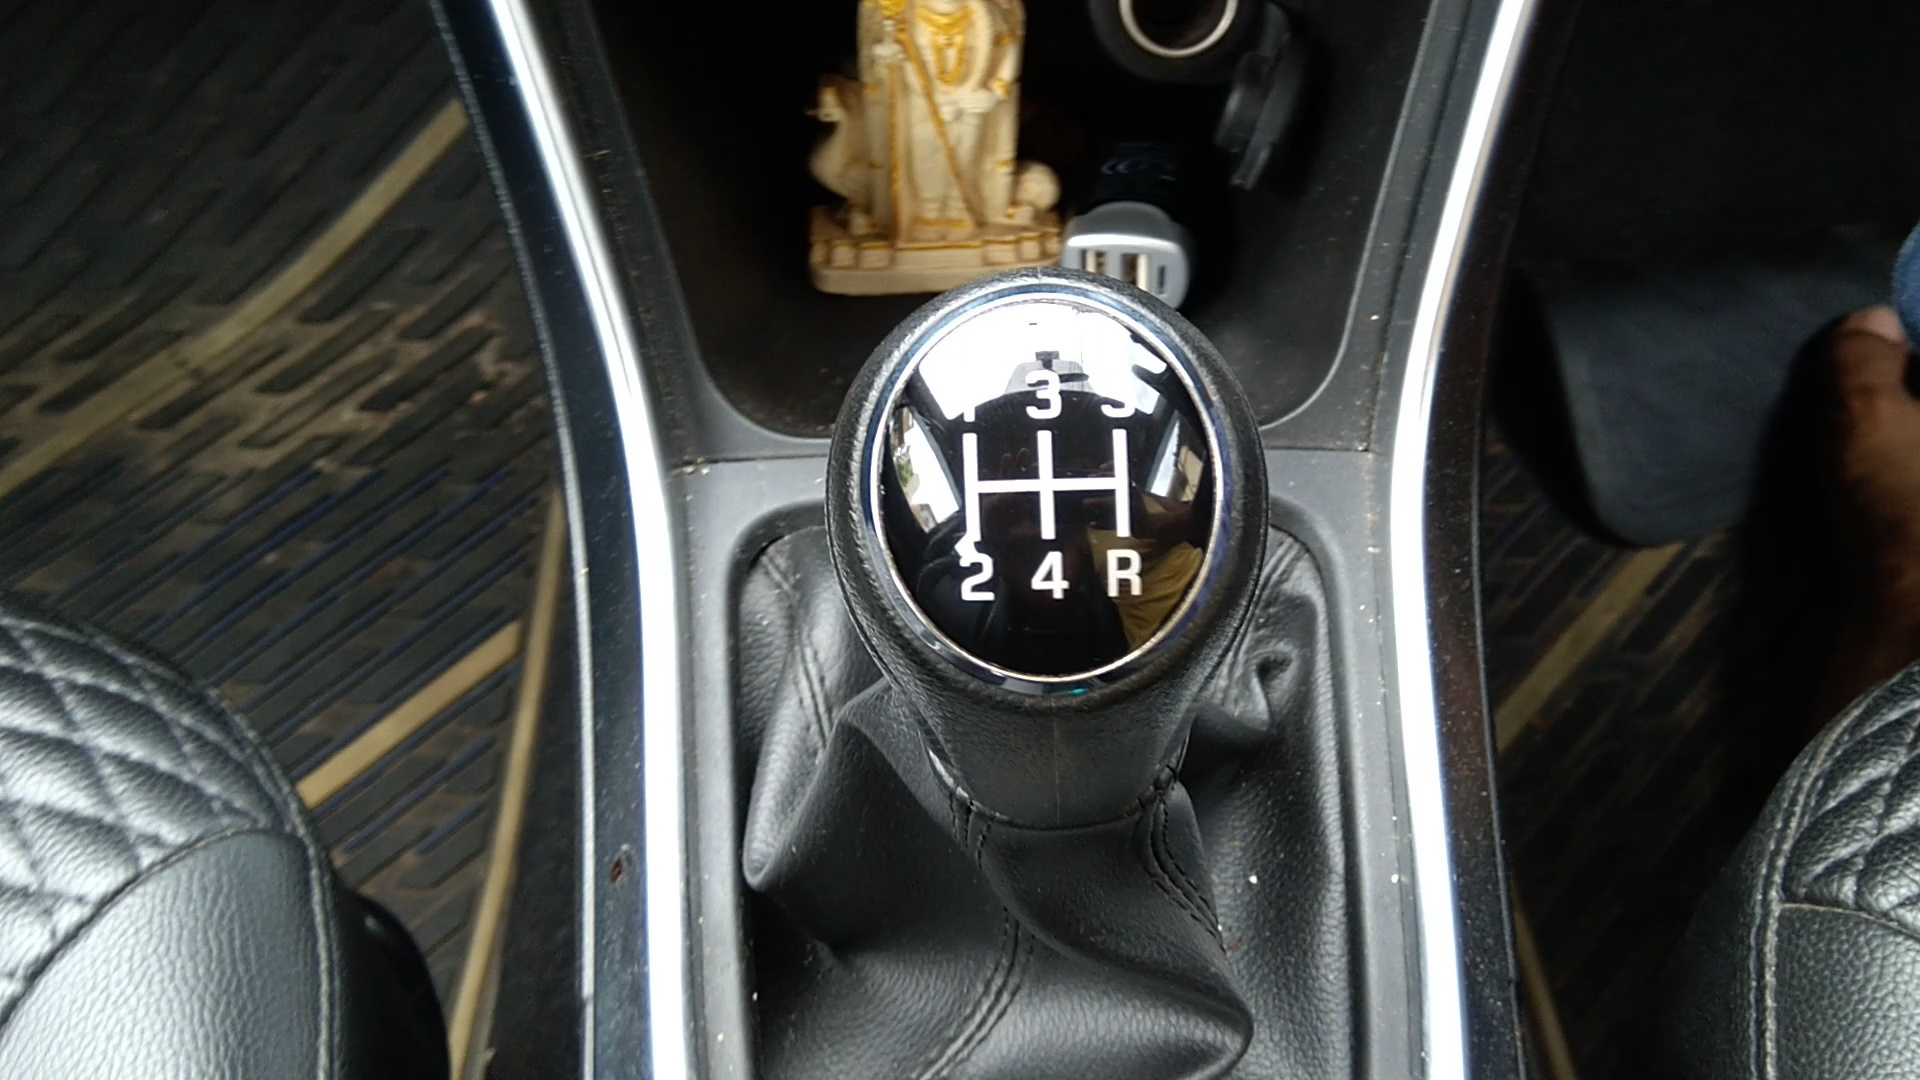manual_gear: (822, 262, 1304, 876)
